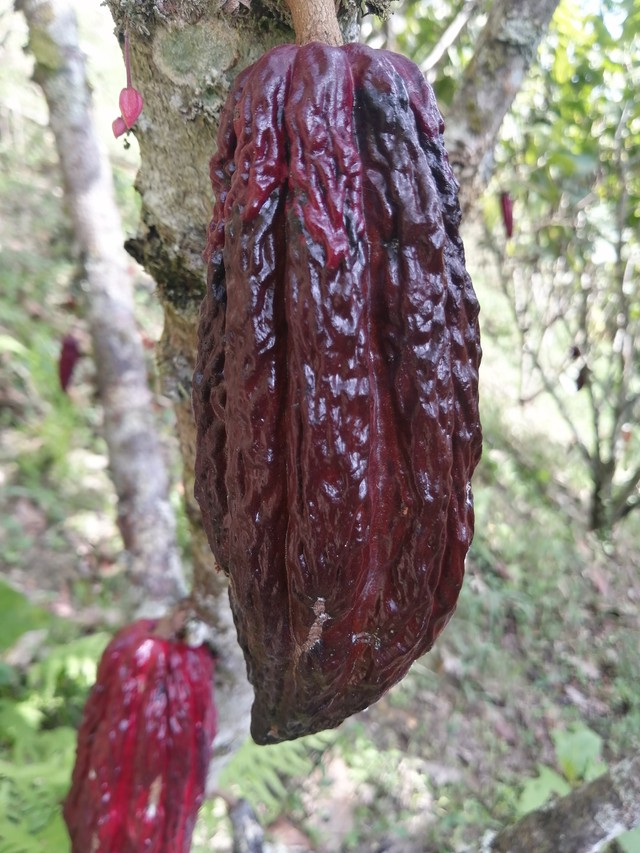phytophthora palmivora: (172, 28, 507, 761)
